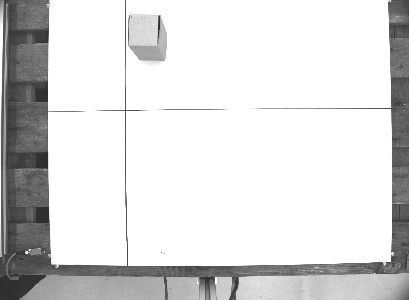b2: (125, 12, 170, 62)
